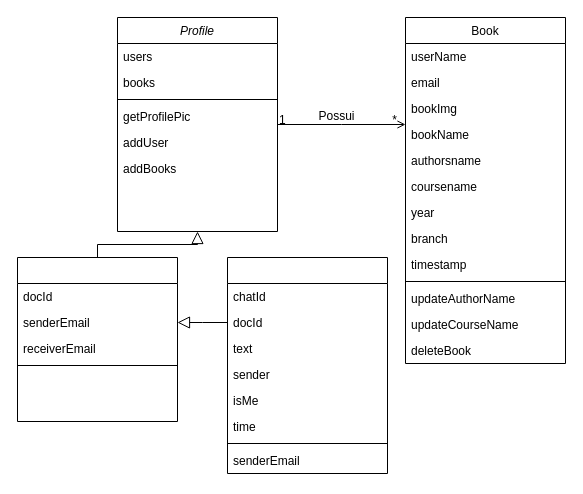
Some shapes in this 583 by 494 pixel diagram are drawn without their labels. Here are the shapes that lost their labels. From the top down, the box of each, then its label:
(16, 256, 178, 422): ChatRoom
(226, 256, 388, 474): MessageBubble
